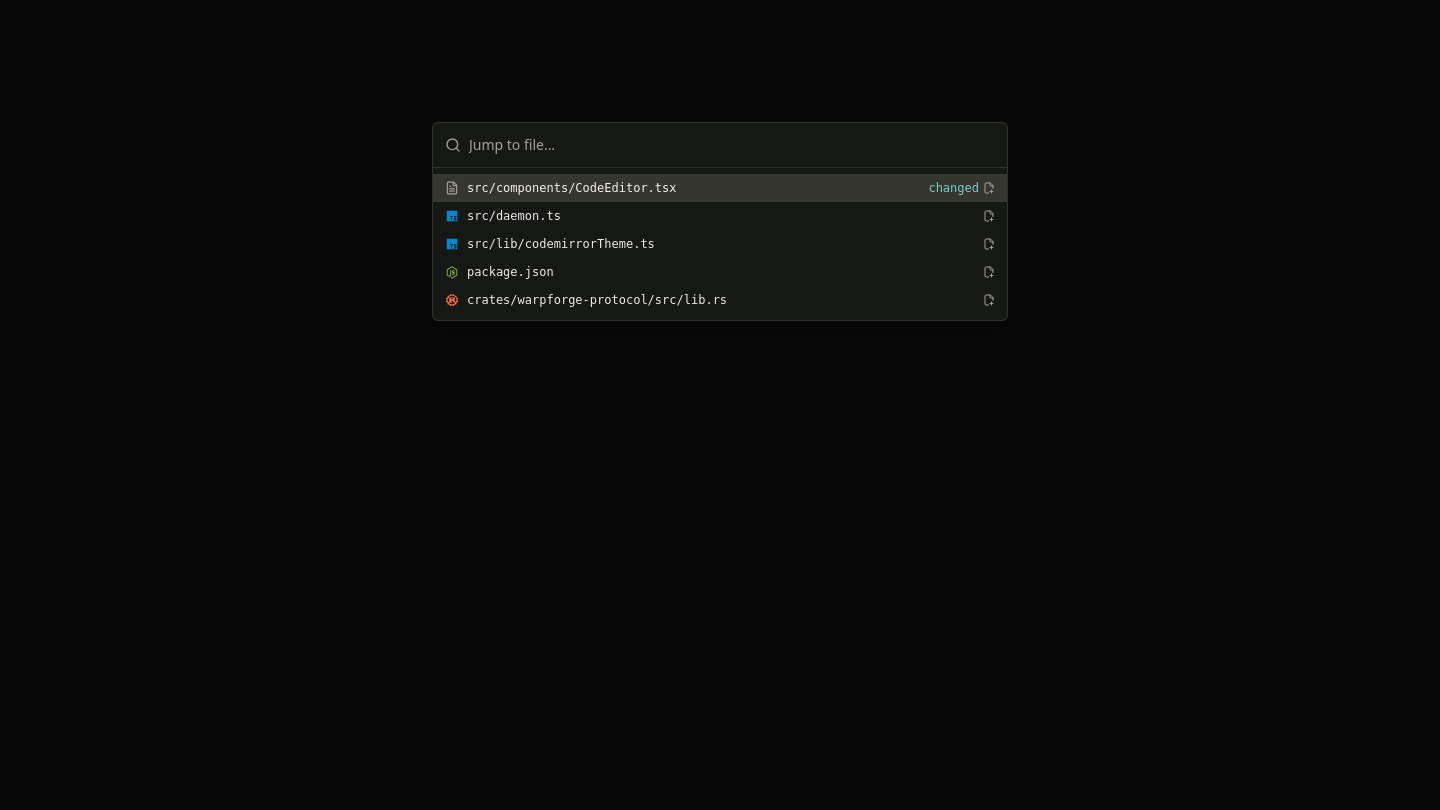
Scenario: QuickOpen › filters by query using the composer ranker
Type "daemon" into the field with placeholder "Jump to file…" at {"x": 732, "y": 144}, box [469,122,995,166]
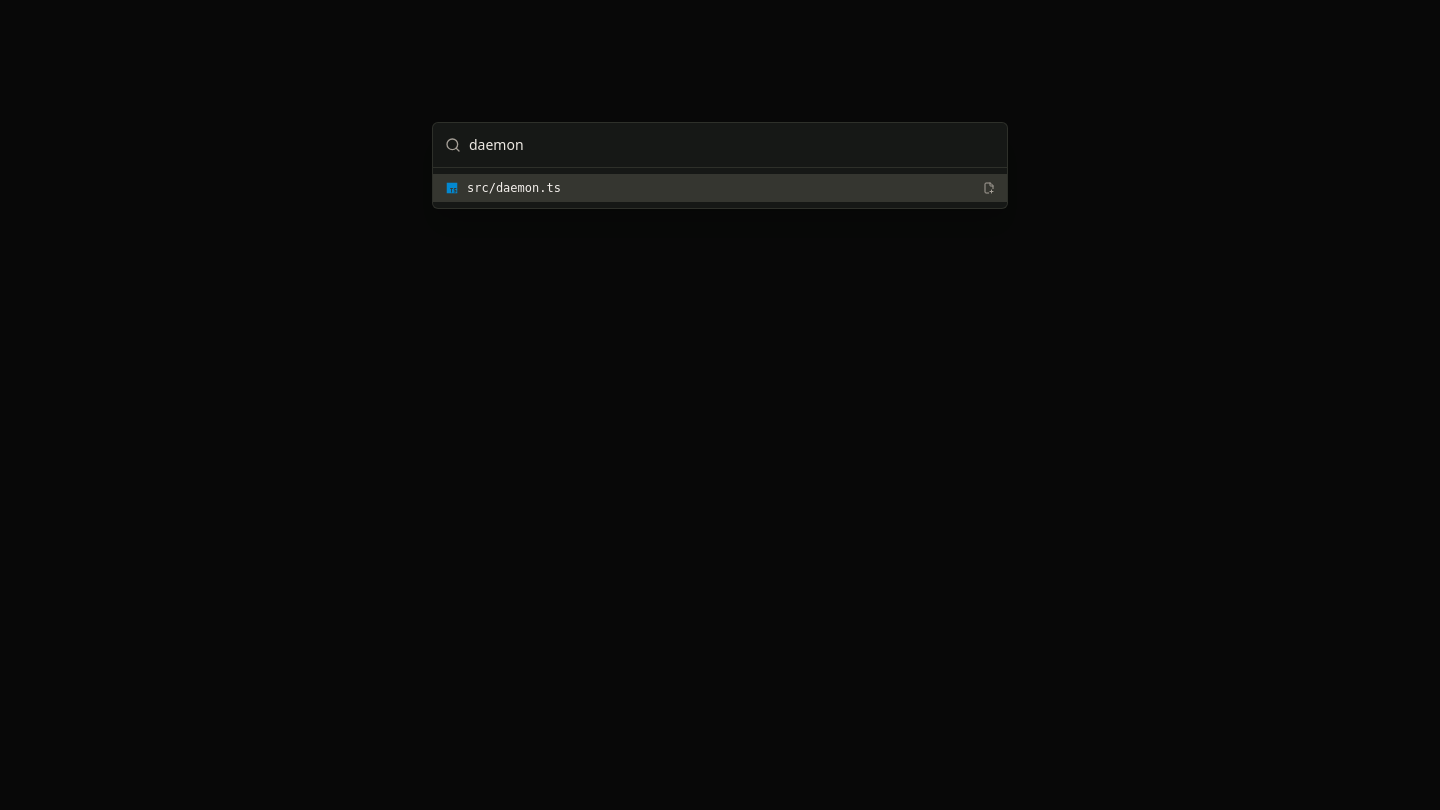
Expected: the text "src/daemon.ts" is shown, [467,180,561,194]
Result: the button "package.json" is gone
